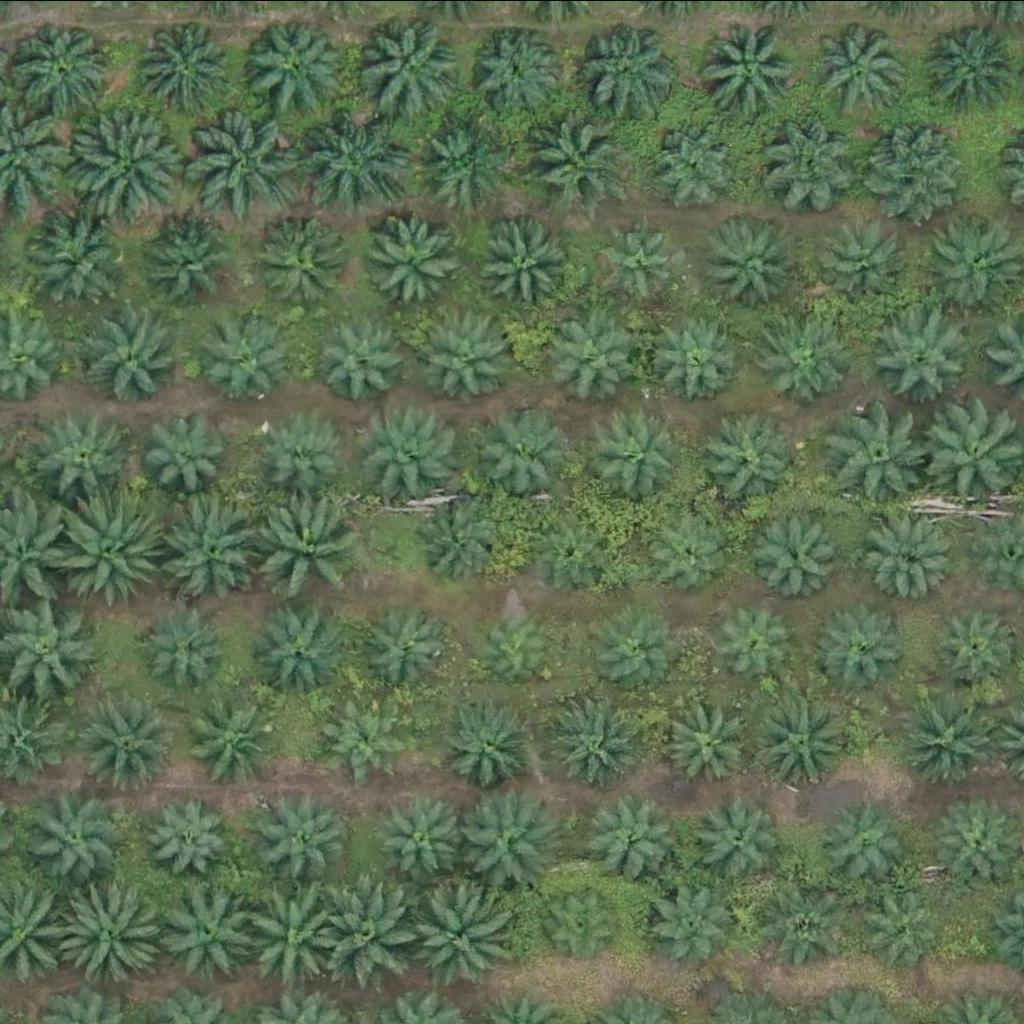Kelapa_Sawit: (71, 109, 184, 222), (298, 109, 411, 221), (187, 103, 300, 215), (23, 209, 136, 321), (57, 495, 170, 607), (58, 874, 171, 986), (251, 886, 352, 986), (404, 888, 505, 988), (460, 785, 561, 885), (756, 690, 857, 790), (896, 687, 997, 787), (262, 492, 363, 592), (410, 485, 511, 585), (706, 412, 807, 512), (831, 397, 932, 497), (543, 307, 644, 407), (477, 212, 578, 312), (358, 210, 459, 310), (249, 214, 350, 314), (410, 115, 511, 215), (521, 112, 622, 212), (759, 113, 860, 213), (863, 115, 964, 215), (244, 18, 345, 118), (698, 12, 799, 112), (813, 19, 914, 119), (922, 15, 1023, 115), (9, 18, 110, 118), (135, 20, 236, 120), (83, 308, 184, 408), (33, 405, 134, 505), (153, 878, 254, 978), (322, 881, 422, 981), (253, 602, 353, 702), (357, 595, 457, 695), (364, 402, 464, 502), (869, 306, 969, 406), (363, 13, 463, 113), (580, 22, 680, 122), (165, 501, 265, 601), (2, 591, 102, 691), (77, 692, 177, 792), (449, 698, 538, 786), (652, 874, 740, 962), (766, 881, 854, 969), (384, 788, 472, 876), (595, 796, 683, 884), (696, 792, 784, 880), (825, 800, 913, 888), (192, 695, 280, 783), (319, 695, 407, 783), (555, 698, 643, 786), (534, 502, 622, 590), (261, 412, 349, 500), (482, 411, 570, 499), (594, 415, 682, 503), (319, 314, 407, 402), (426, 314, 514, 402), (659, 317, 747, 405), (703, 215, 791, 303), (653, 120, 741, 208), (144, 219, 232, 307), (145, 608, 233, 696), (596, 222, 685, 309), (861, 884, 949, 971), (543, 881, 631, 968), (263, 792, 351, 879), (669, 696, 757, 783), (933, 601, 1021, 688), (815, 601, 903, 688), (711, 594, 799, 681), (588, 606, 676, 693), (651, 507, 739, 594), (760, 508, 848, 595), (868, 511, 956, 598), (766, 319, 854, 406), (824, 221, 912, 308), (474, 26, 562, 113), (208, 322, 296, 409), (140, 411, 228, 498), (35, 791, 123, 878), (143, 790, 231, 877), (482, 608, 558, 683)
